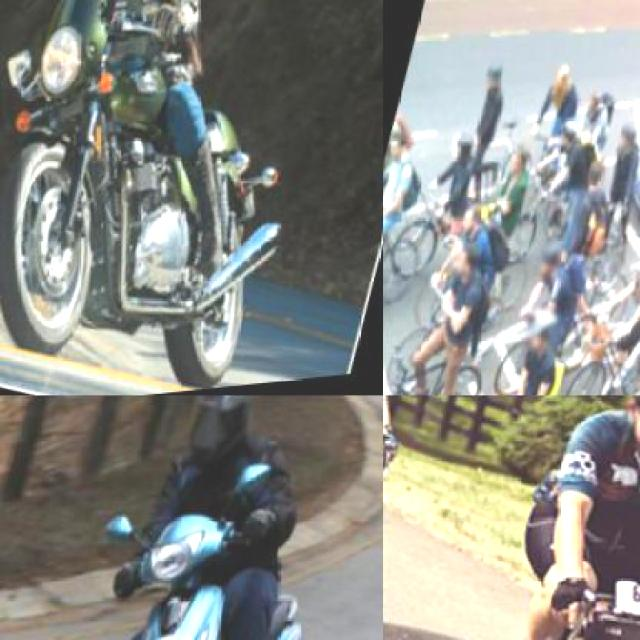With Helmet: (165, 396, 280, 492), (591, 396, 638, 486), (508, 301, 562, 365), (522, 238, 566, 294), (611, 125, 638, 163), (448, 132, 475, 168), (482, 63, 506, 95)
Without Helmet: (438, 240, 484, 288), (497, 144, 532, 190), (544, 65, 576, 107)
